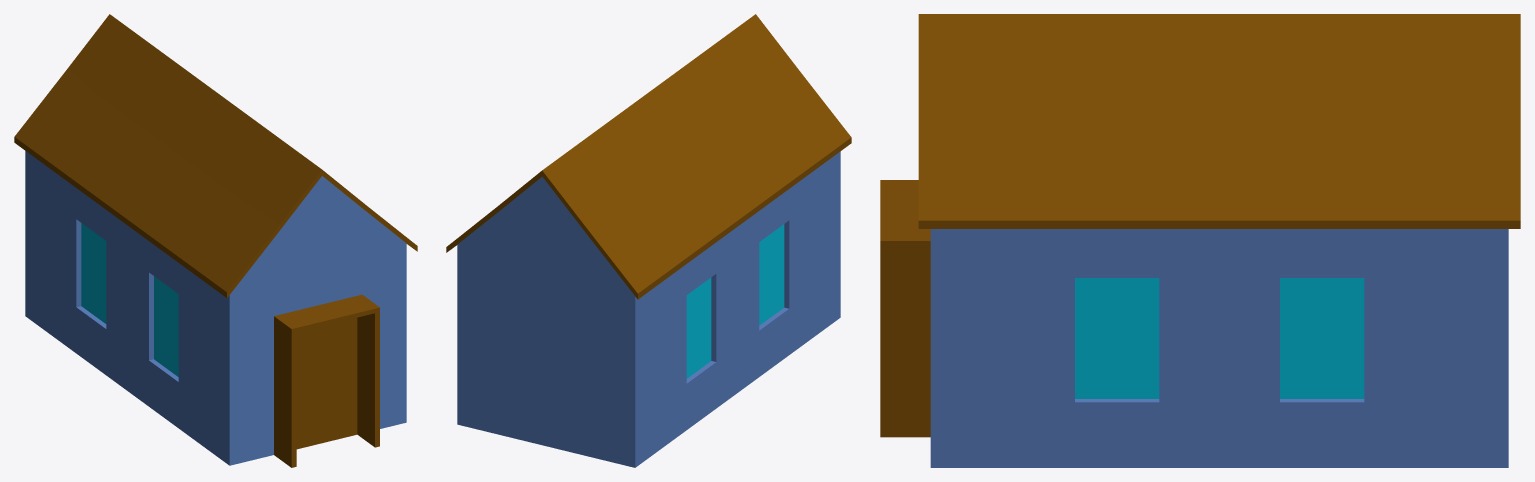
File: House.fbx
3 renders of one model, left to right at view 1: azimuth 30°, elevation 25°; view 2: azimuth 150°, elevation 25°; view 3: azimuth 270°, elevation 25°, orthographic. The views are drawn at different scales.
Visible parts, largest first — view 1: House; view 2: House; view 3: House.
Part boxes in pixels (<box>): House: <box>14,14,417,467</box>; House: <box>446,14,851,467</box>; House: <box>880,14,1520,467</box>.
Bounding box in the file's own units: 2.15 × 3 × 4.43.
